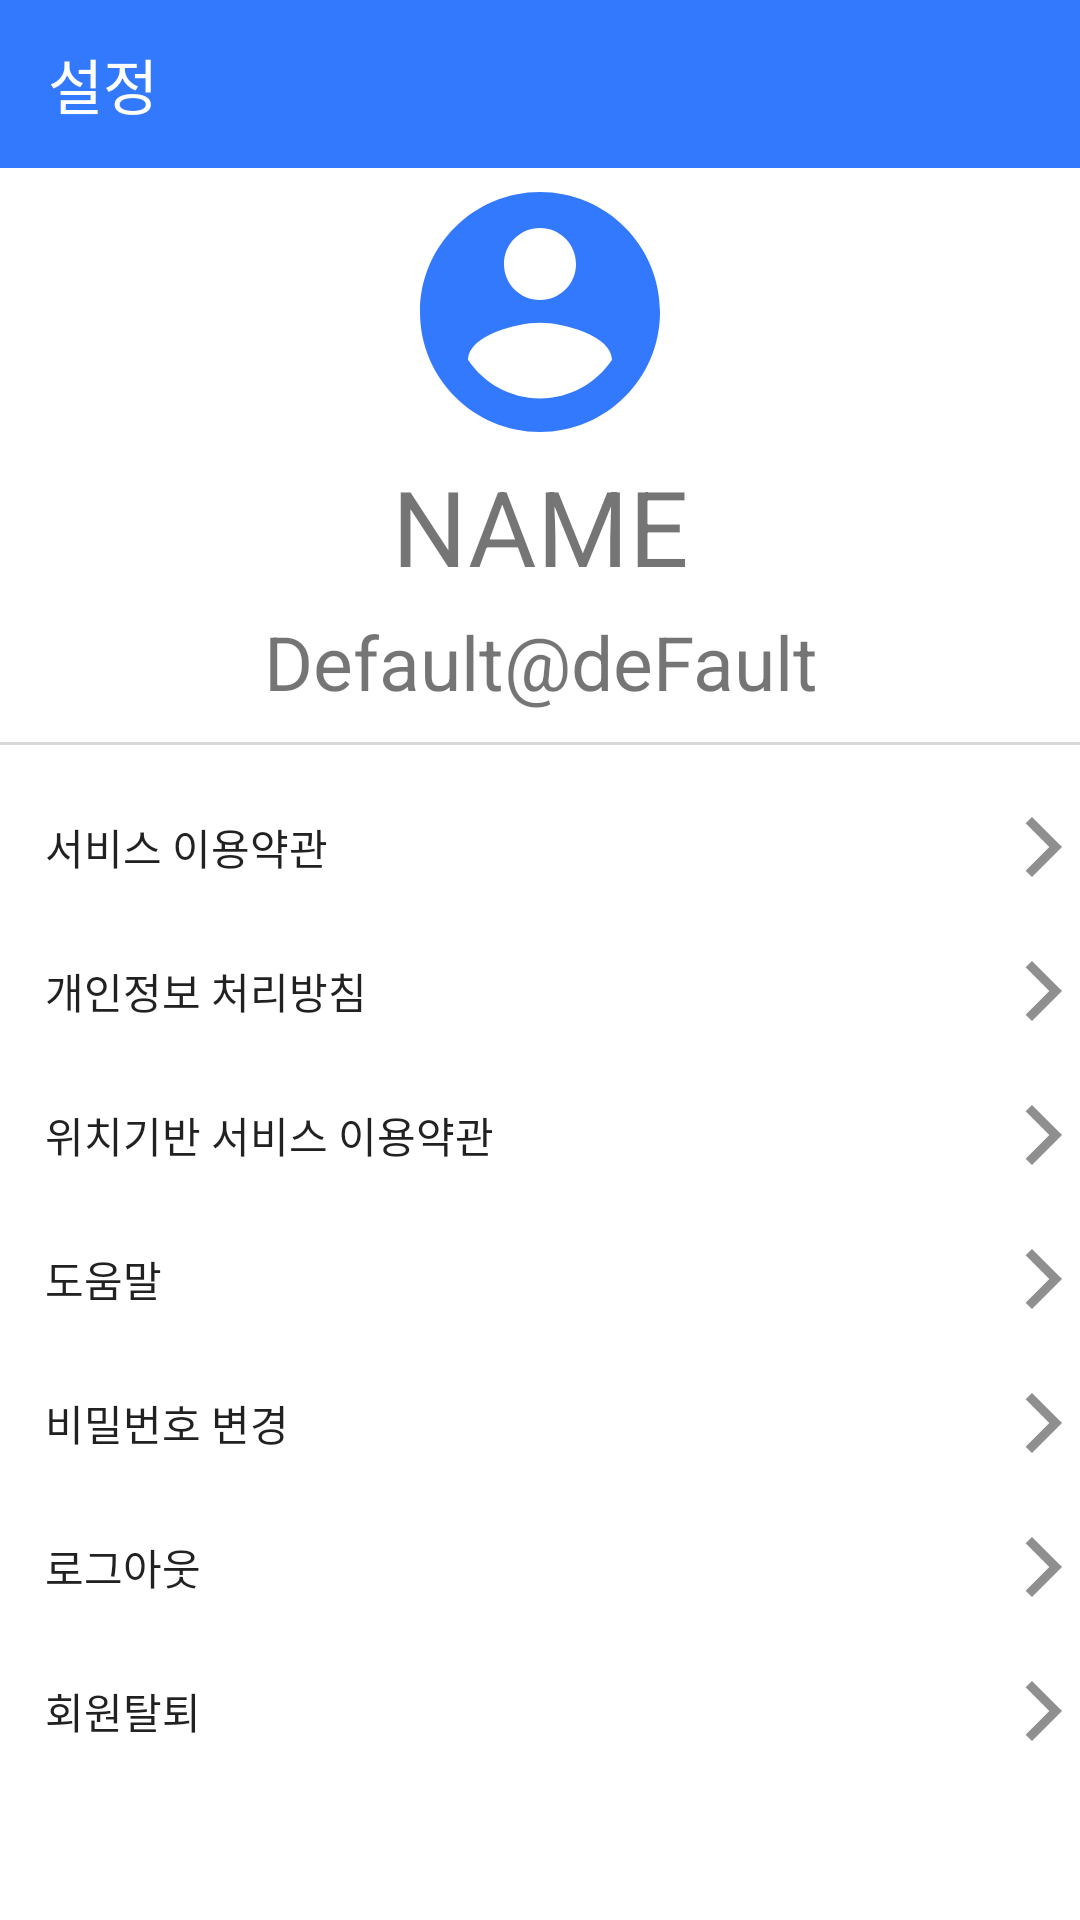

Screen size 1080w x 1920h. Icon name, then its box in pixels as bbox=(x1, y1, x2, y2):
account circle: bbox=(420, 192, 660, 432)
